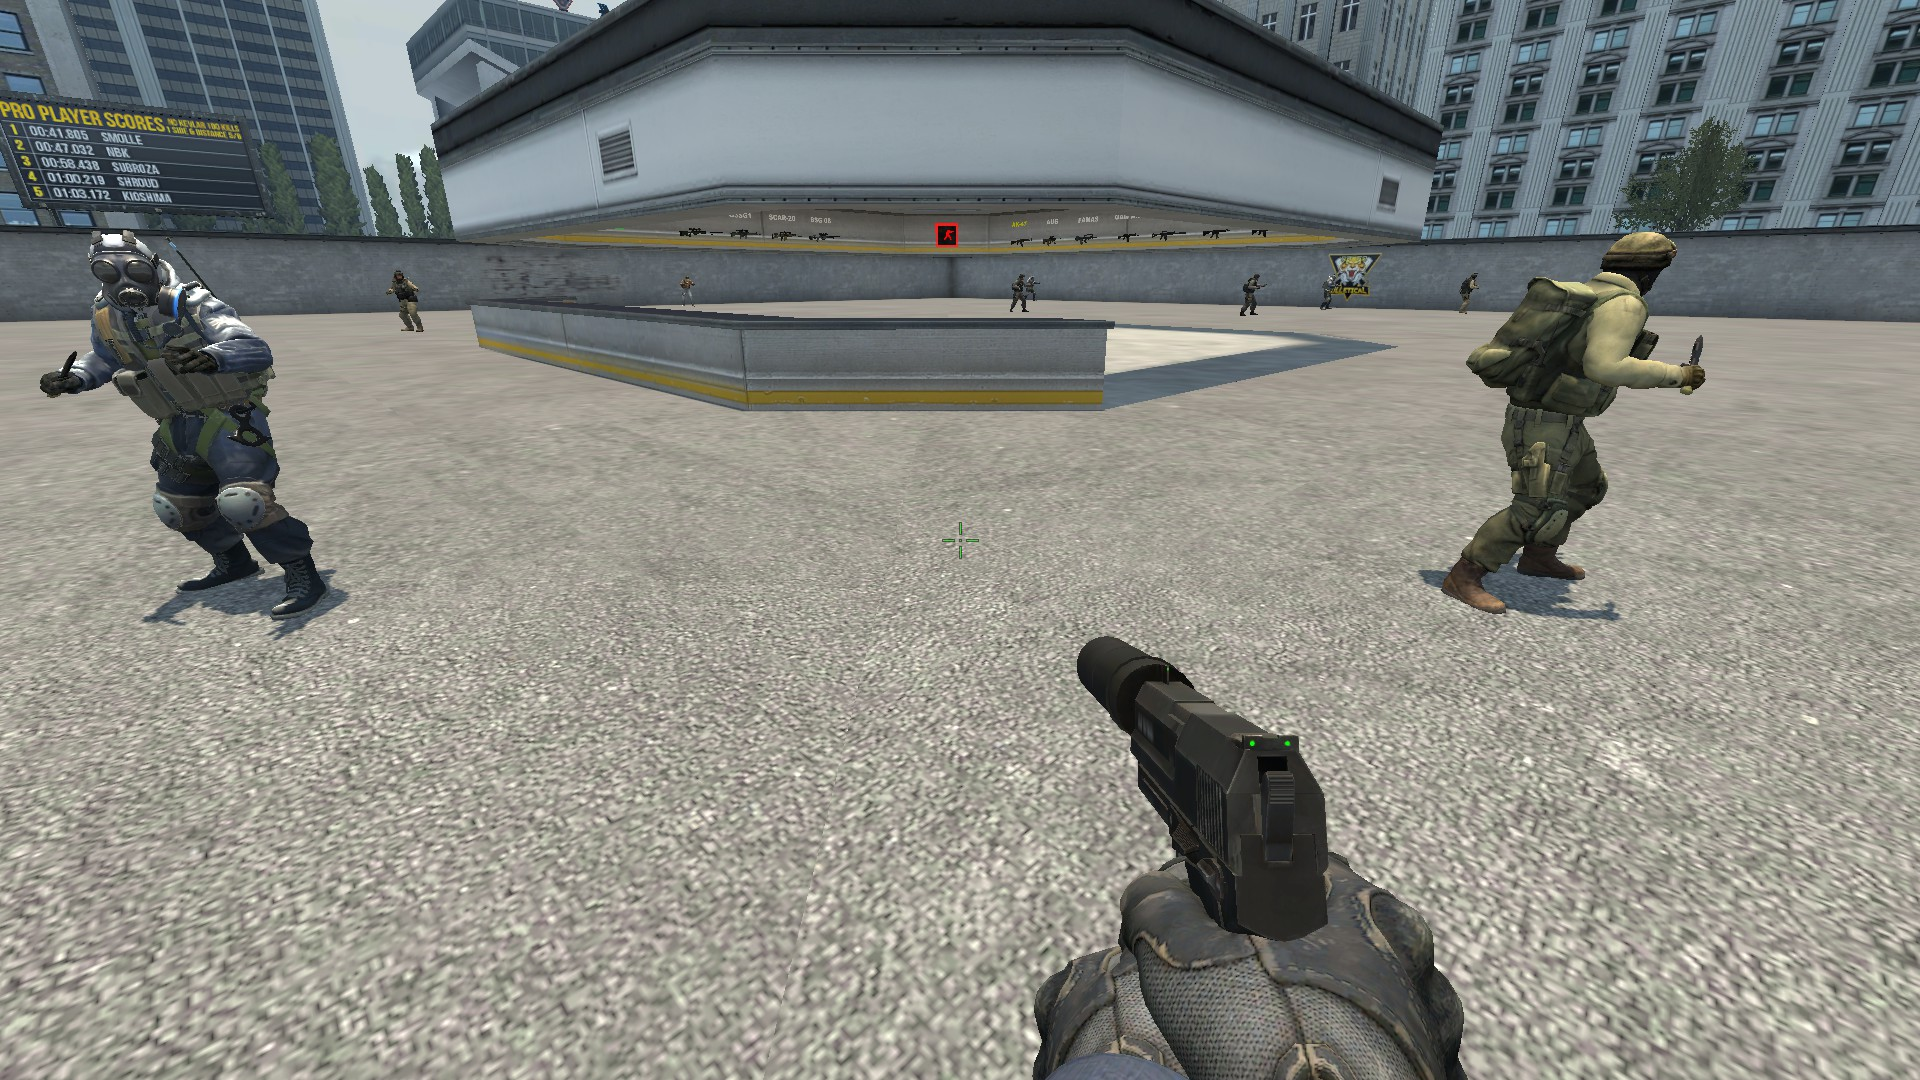ct: (38, 225, 334, 621), (1440, 231, 1709, 616)
ct head: (84, 223, 171, 313), (1597, 229, 1677, 302)
